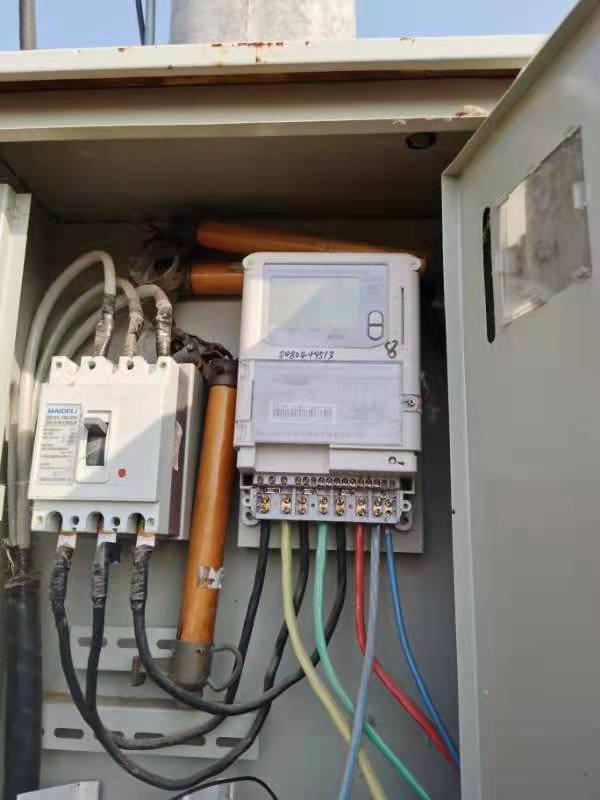digital: (234, 249, 418, 449)
